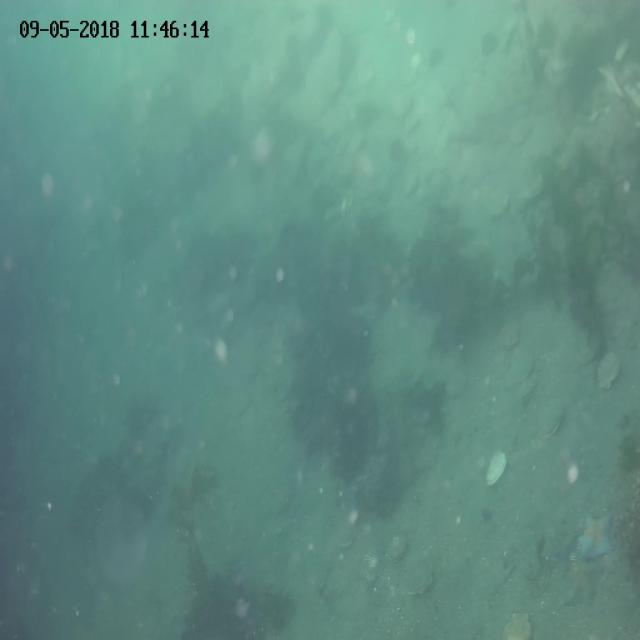scallop: (401, 557, 438, 595), (540, 400, 565, 442), (596, 354, 622, 393), (503, 610, 534, 640), (527, 562, 552, 598), (359, 550, 384, 585), (484, 451, 508, 487), (512, 356, 535, 382), (558, 462, 580, 487), (518, 378, 539, 404), (389, 534, 409, 561), (232, 595, 252, 617), (336, 529, 354, 548), (344, 507, 358, 525)
starfish: (576, 509, 616, 562), (560, 556, 602, 606)
